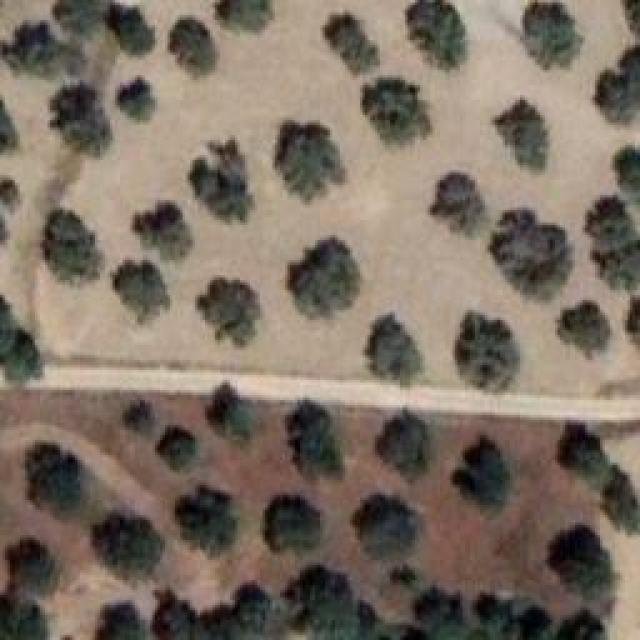Tree: (448, 308, 523, 404), (50, 75, 127, 162), (490, 208, 569, 291), (288, 238, 364, 322), (370, 403, 447, 483), (585, 183, 640, 293), (458, 428, 527, 513), (508, 0, 582, 76), (170, 475, 236, 555), (275, 118, 344, 190), (552, 520, 618, 594), (42, 208, 106, 283), (93, 512, 163, 580), (290, 395, 346, 478), (350, 488, 415, 559), (365, 75, 426, 149), (2, 535, 67, 604), (360, 317, 426, 384), (193, 143, 256, 213), (108, 252, 171, 321), (28, 440, 86, 514), (426, 165, 488, 234), (293, 567, 356, 634), (198, 275, 262, 338), (493, 95, 551, 164), (408, 0, 464, 69), (15, 20, 77, 82), (555, 295, 611, 363), (130, 195, 194, 253), (82, 587, 152, 640), (320, 10, 380, 71), (600, 45, 640, 133), (263, 494, 321, 554), (558, 425, 614, 487), (208, 380, 262, 443), (105, 0, 162, 59), (168, 15, 220, 70), (110, 73, 168, 122), (55, 0, 116, 44), (342, 607, 422, 640), (0, 595, 56, 640), (0, 328, 47, 381), (227, 585, 271, 639), (215, 0, 278, 34), (605, 470, 639, 533), (415, 590, 463, 634), (468, 585, 512, 631), (150, 590, 190, 640), (154, 423, 196, 469), (555, 605, 605, 640), (510, 605, 560, 640), (195, 603, 242, 640), (120, 395, 158, 436), (394, 555, 428, 598), (0, 178, 28, 218), (0, 300, 17, 361), (0, 100, 18, 155), (617, 0, 639, 42), (625, 295, 640, 351)
